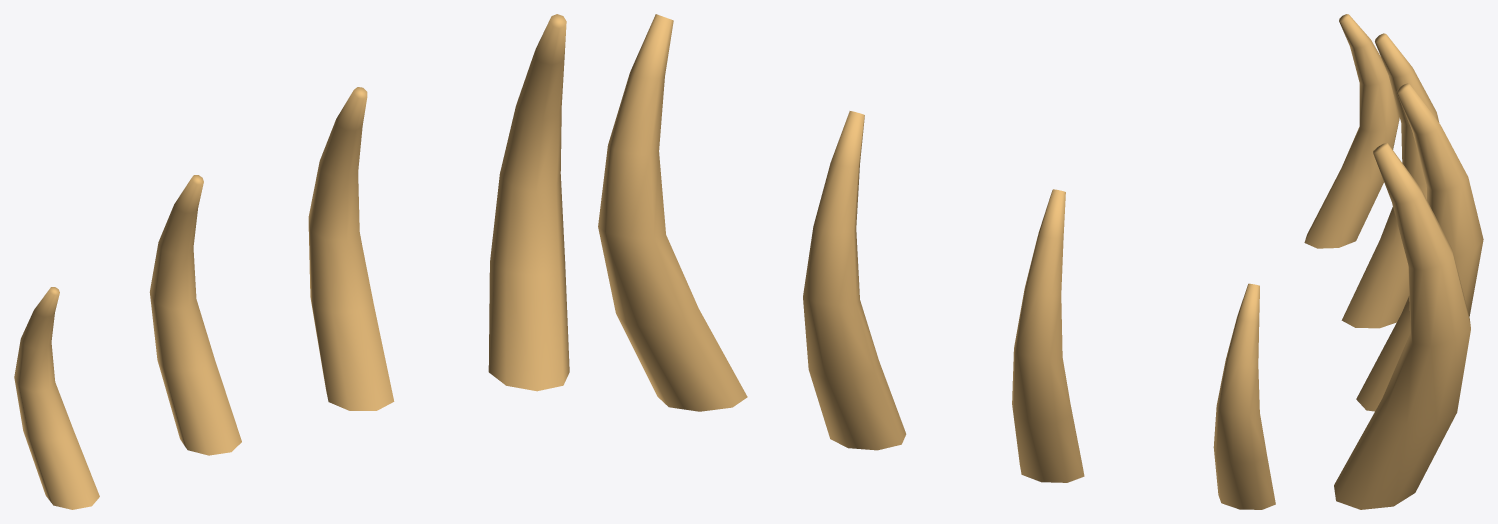
The model's file is Bones_01.fbx.
The picture shows the model from 3 angles, left to right: view 1: azimuth 30°, elevation 25°; view 2: azimuth 150°, elevation 25°; view 3: azimuth 270°, elevation 25°; orthographic projection. The views are drawn at different scales.
Parts seen in each view (by area): view 1: Bones_01; view 2: Bones_01; view 3: Bones_01.
Boxes of the visible parts, left/top/right/bottom form: Bones_01: left=14, top=14, right=569, bottom=509; Bones_01: left=598, top=14, right=1275, bottom=509; Bones_01: left=1304, top=14, right=1483, bottom=509.
Size of the model in its own units: 276 by 162 by 72.11.
